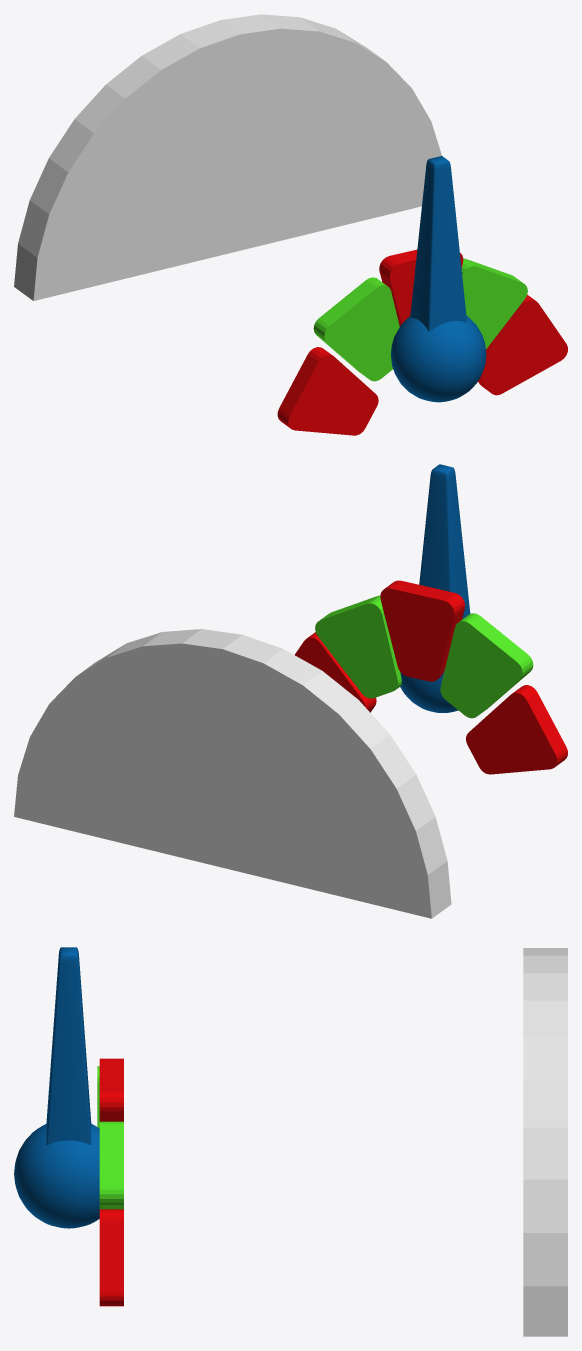
The model's file is Ratio.fbx.
3 views of the same model, one above another, from view 1: azimuth 30°, elevation 25°; view 2: azimuth 150°, elevation 25°; view 3: azimuth 270°, elevation 25° (orthographic). The views are drawn at different scales.
Parts seen in each view (by area): view 1: Cylinder.003, Plane.004, Cube.008; view 2: Cylinder.003, Plane.004, Cube.008; view 3: Cylinder.003, Cube.008, Plane.004.
Boxes of the visible parts, x1,y1,x2,y2 form: Cylinder.003: (14, 14, 441, 300); Plane.004: (277, 249, 567, 435); Cube.008: (391, 156, 486, 402); Cylinder.003: (14, 629, 451, 918); Plane.004: (295, 580, 567, 774); Cube.008: (400, 464, 470, 712); Cylinder.003: (523, 948, 567, 1336); Cube.008: (14, 947, 99, 1228); Plane.004: (97, 1058, 123, 1306).
Bounding box in the file's own units: 1237 × 768 × 1253.
